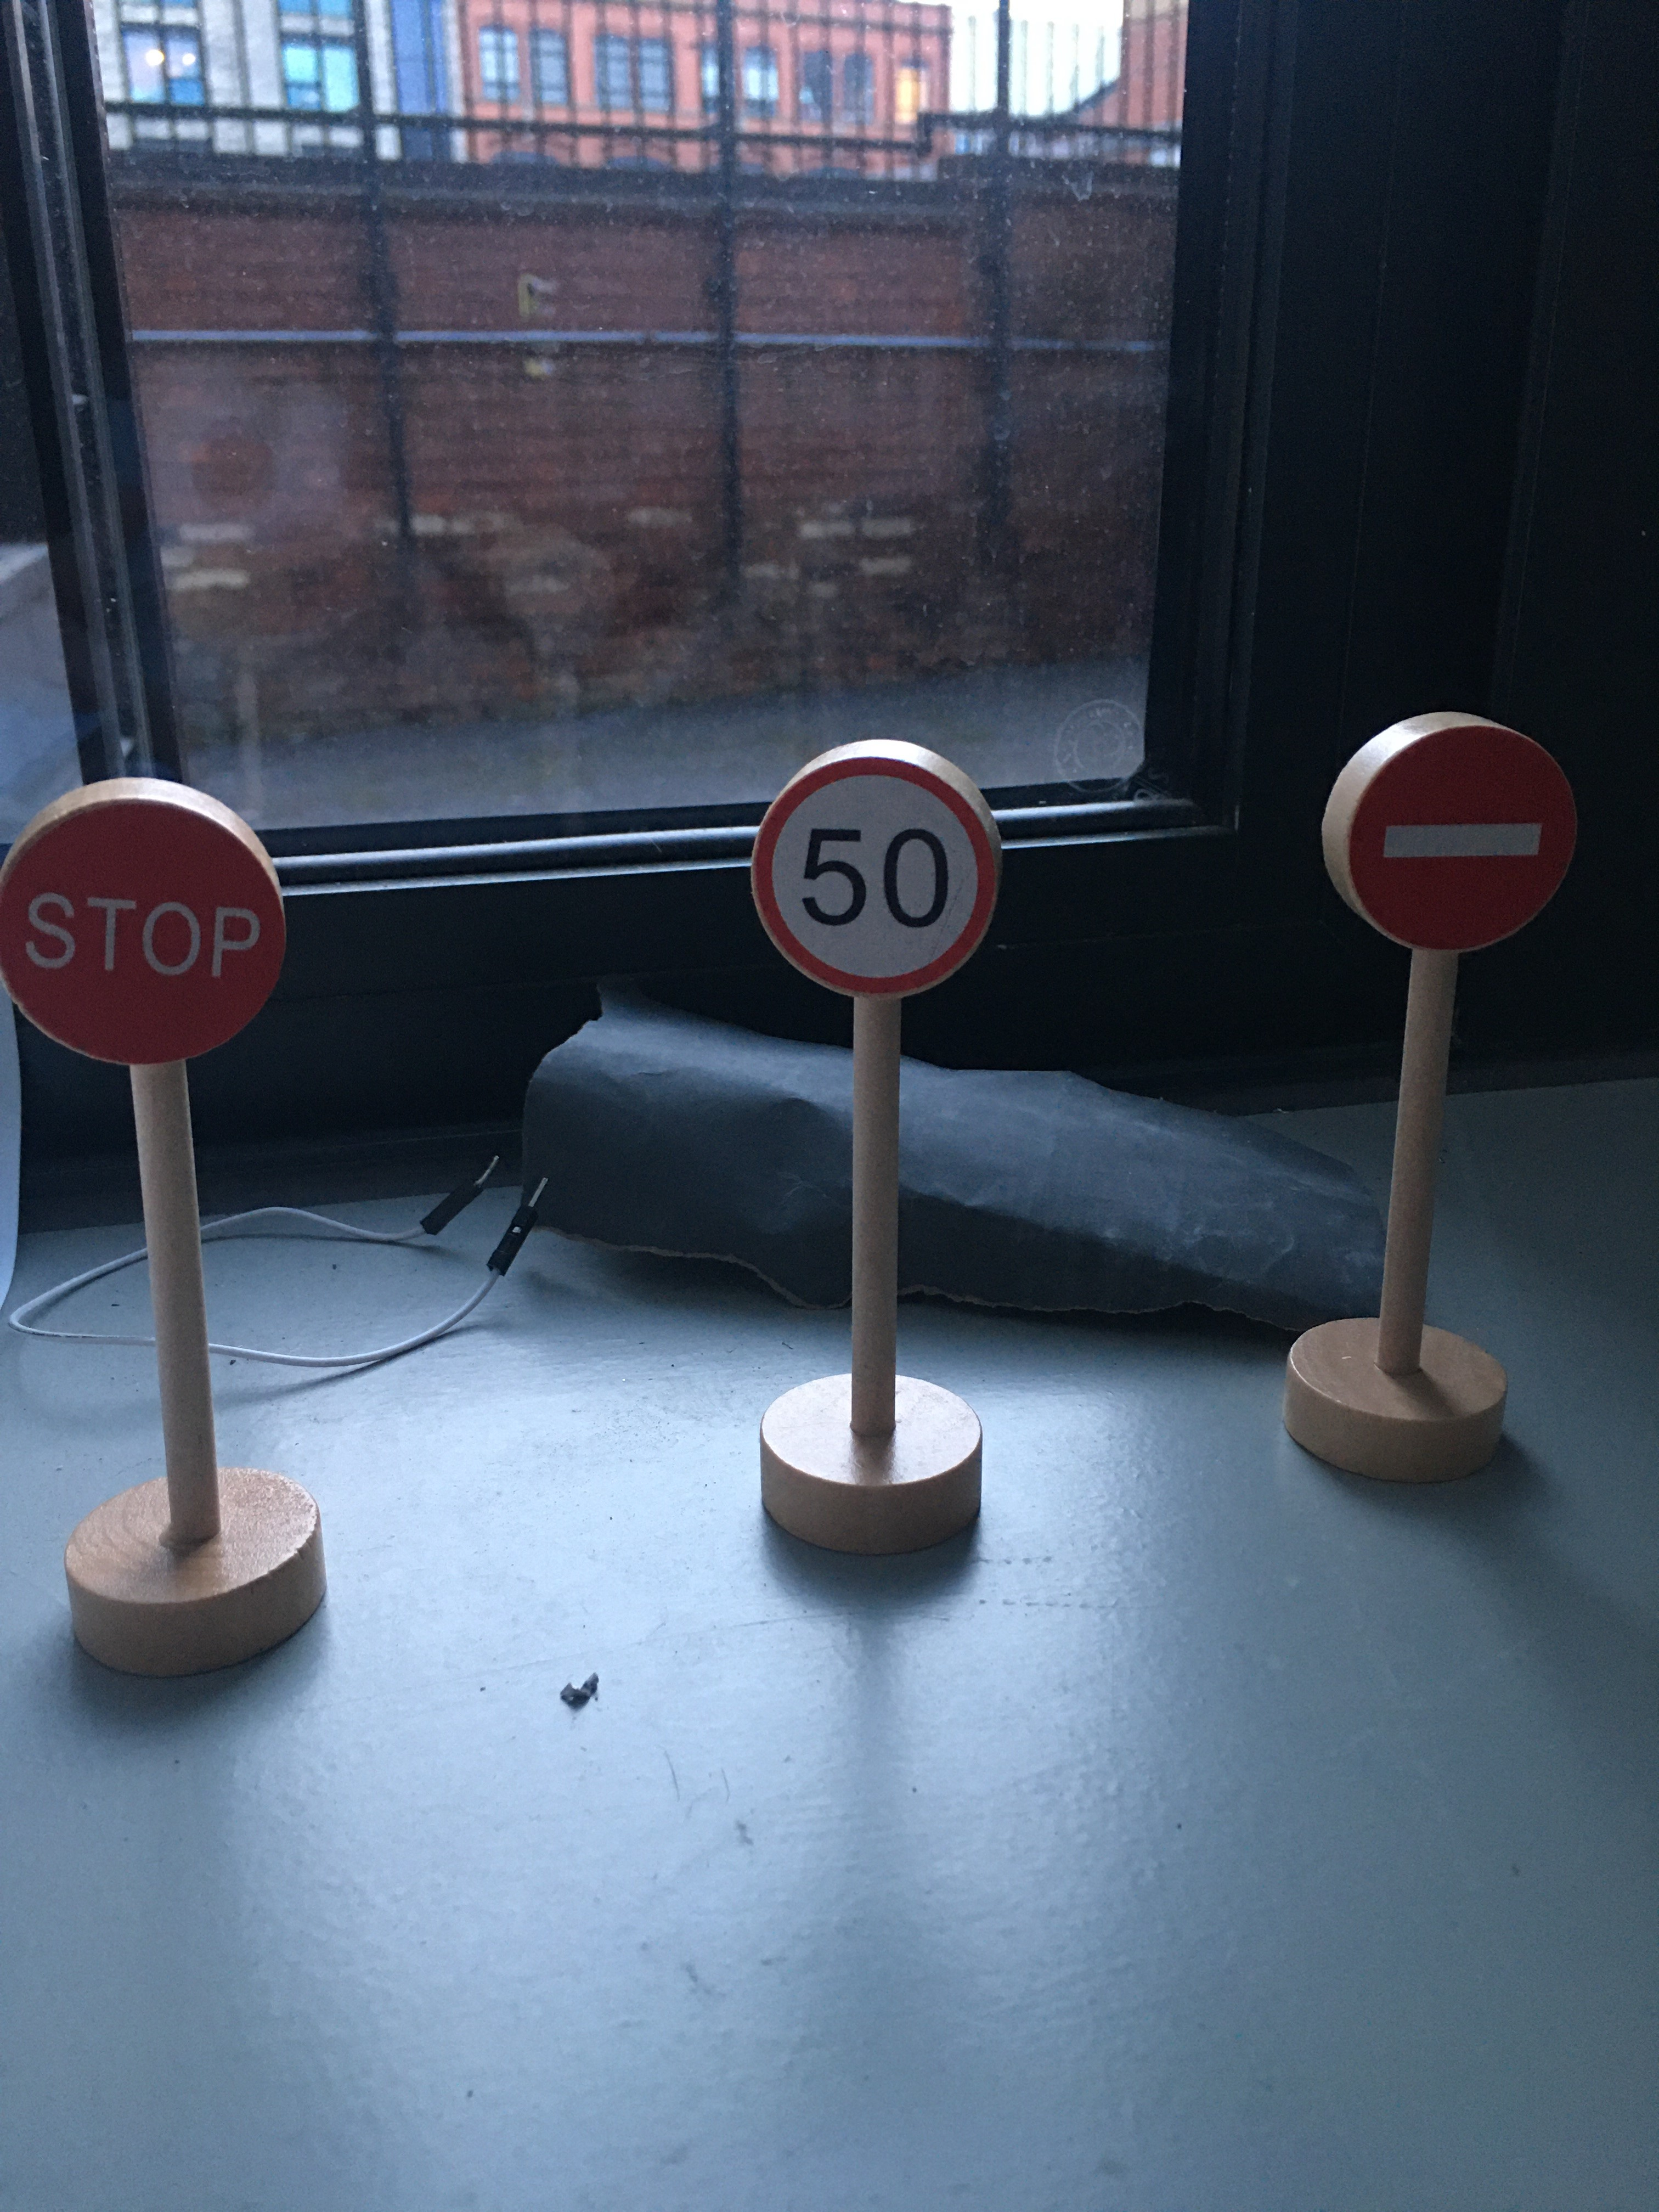Traffic_Sign_50: (751, 755, 993, 995)
Traffic_Sign_No_Entry: (1359, 725, 1572, 947)
Traffic_Sign_Stop: (3, 800, 286, 1063)
